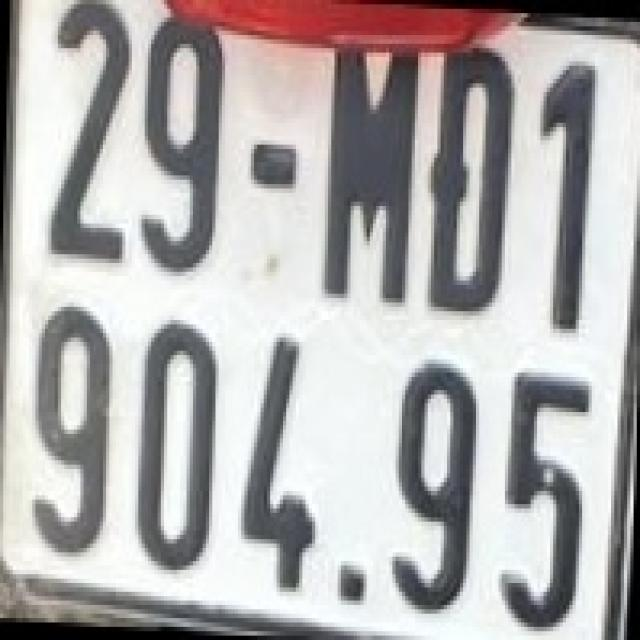0: (134, 316, 220, 574)
1: (534, 57, 604, 333)
2: (46, 0, 133, 267)
4: (238, 329, 322, 596)
5: (497, 364, 593, 631)
9: (135, 9, 228, 276), (386, 353, 479, 611), (29, 300, 113, 554)
D: (424, 46, 518, 318)
M: (318, 37, 418, 305)
